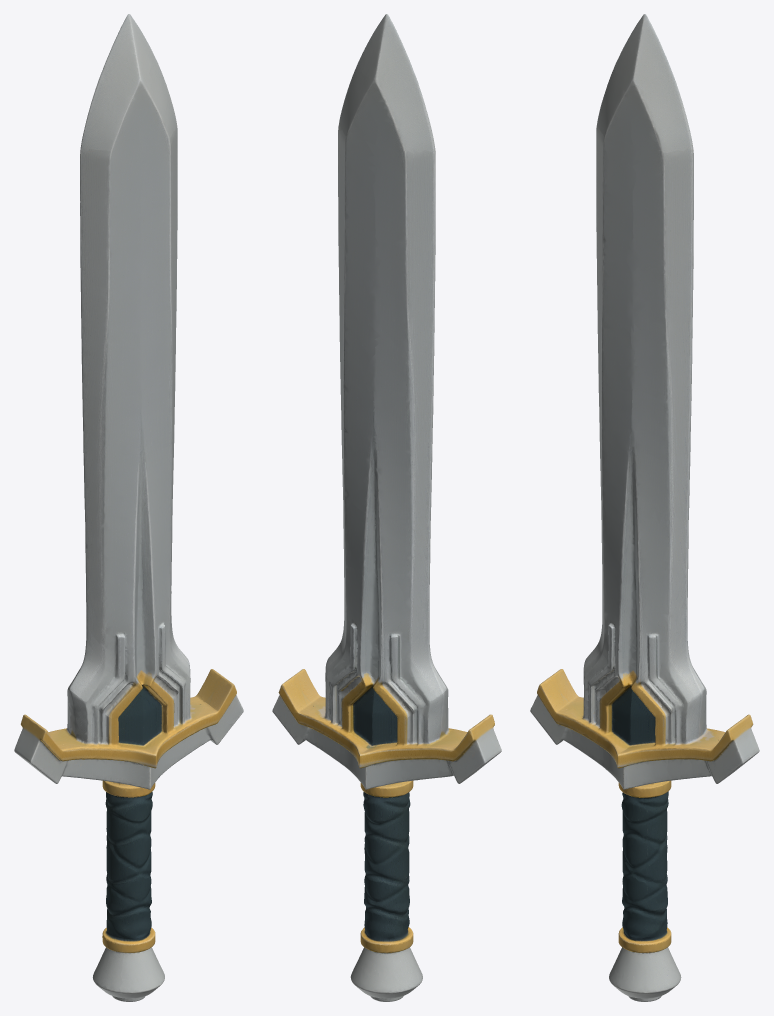
Rendered from dawnwarden-sword-v1.glb.
3 views of the same model, side by side, from view 1: azimuth 30°, elevation 25°; view 2: azimuth 150°, elevation 25°; view 3: azimuth 330°, elevation 25° (orthographic).
Size of the model in its own units: 0.4318 by 1.9 by 0.1909.
1 material, 1 textured.
